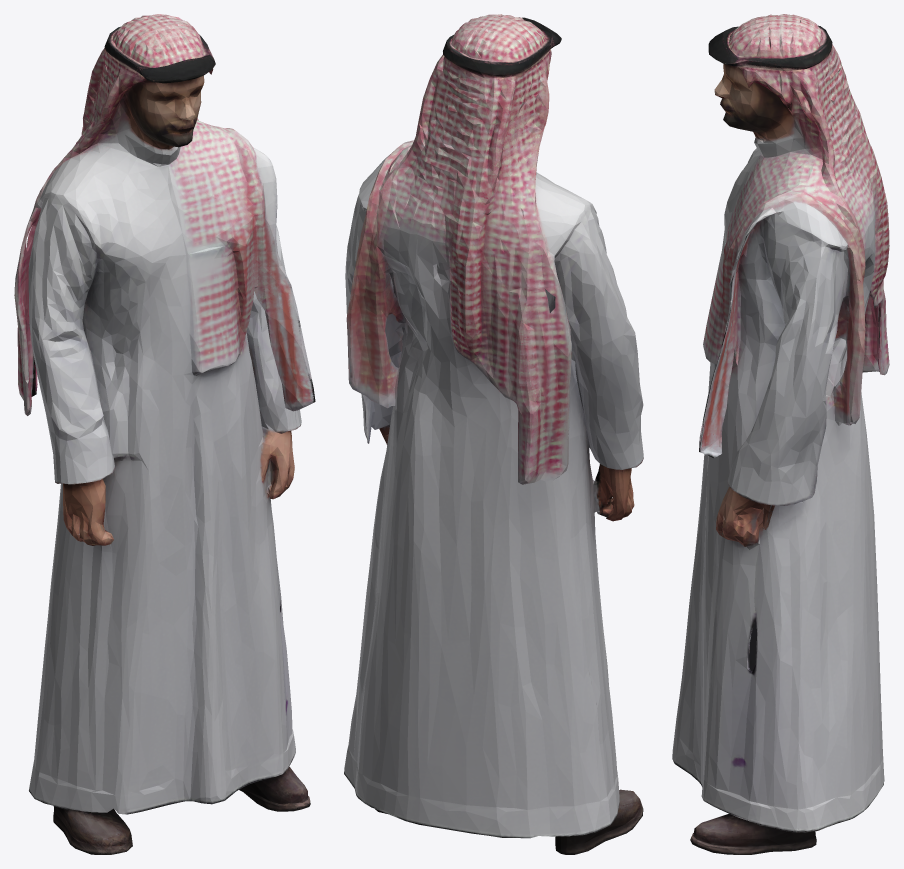
File: man.glb
3 views of the same model, side by side, from view 1: azimuth 30°, elevation 25°; view 2: azimuth 150°, elevation 25°; view 3: azimuth 270°, elevation 25° (orthographic). The views are drawn at different scales.
Parts seen in each view (by area): view 1: world; view 2: world; view 3: world.
Boxes of the visible parts, x1,y1,x2,y2 form: world: (14, 14, 315, 854); world: (344, 14, 643, 854); world: (672, 14, 889, 854).
Size of the model in its own units: 0.353 by 1 by 0.2533.
Materials: 1 (1 with a texture image).
